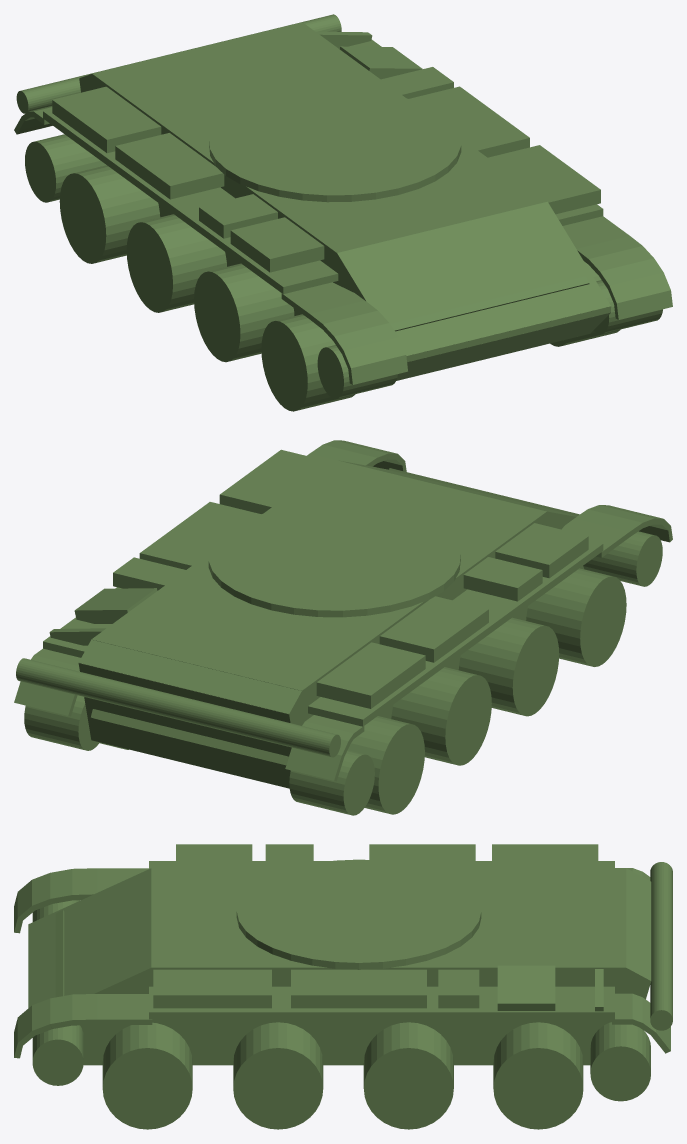
File: 57-2-Hull.fbx
3 renders of one model, top to bottom at view 1: azimuth 30°, elevation 25°; view 2: azimuth 150°, elevation 25°; view 3: azimuth 270°, elevation 25°, orthographic. The views are drawn at different scales.
Parts seen in each view (by area): view 1: Cube.033; view 2: Cube.033; view 3: Cube.033.
Boxes of the visible parts, box(x1,y1,x2,y2) form: Cube.033: box(14, 14, 672, 411); Cube.033: box(14, 440, 672, 815); Cube.033: box(14, 844, 672, 1129).
Bounding box in the file's own units: 1180 × 519 × 2171.
